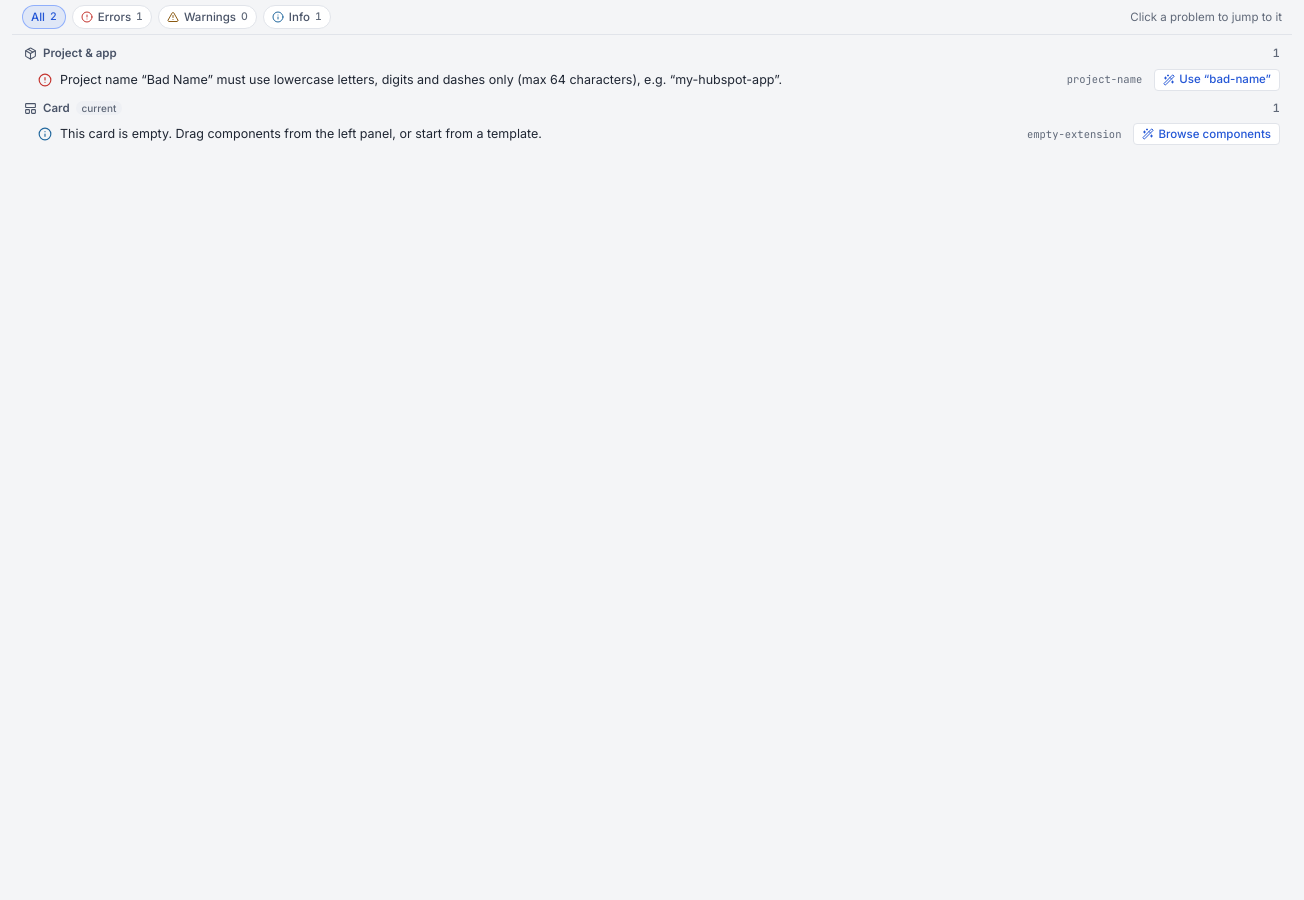
Test: quick fixes › shows a Fix button in the problems panel
The width and height of the screenshot is (1304, 900).
Click the button "Use “bad-name”" at (1217, 80), box x1=1154 y1=69 x2=1280 y2=91
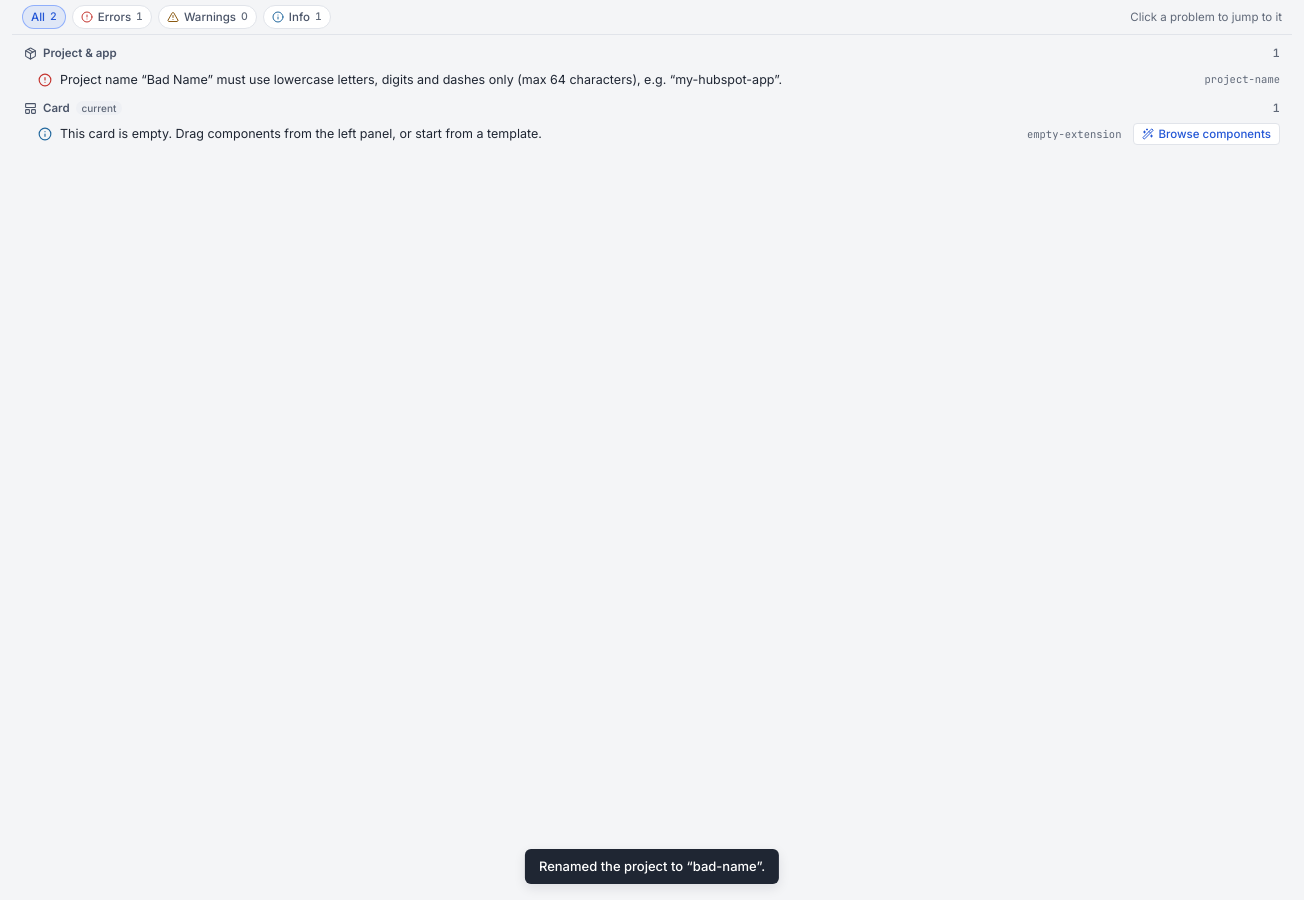
Expected: the message reads "Renamed the project to “bad-name”.", x1=539 y1=858 x2=765 y2=874
